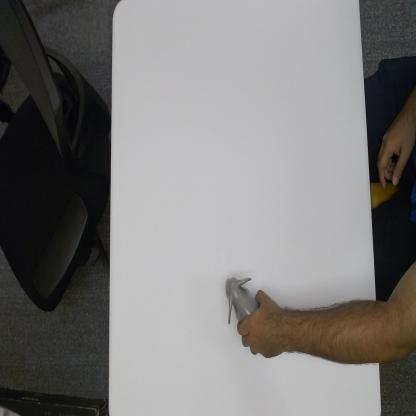Arm: (286, 299, 380, 366)
Elephant: (225, 274, 261, 326)
Hand: (237, 291, 285, 368)
